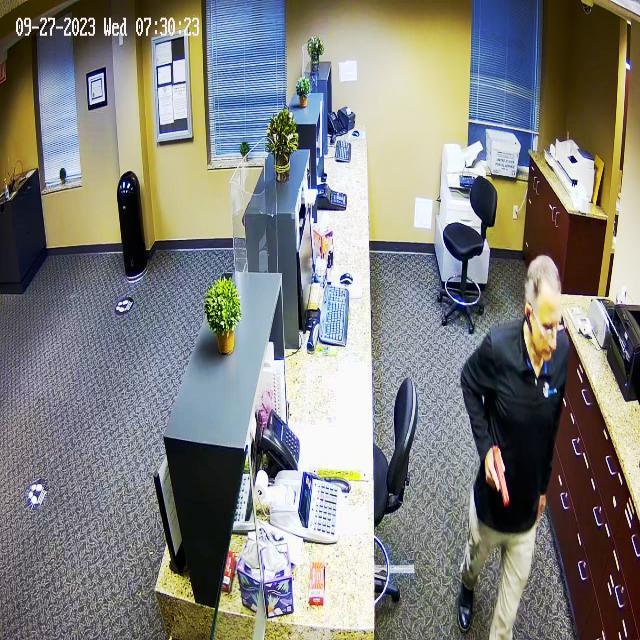Gun: (477, 433, 515, 514)
